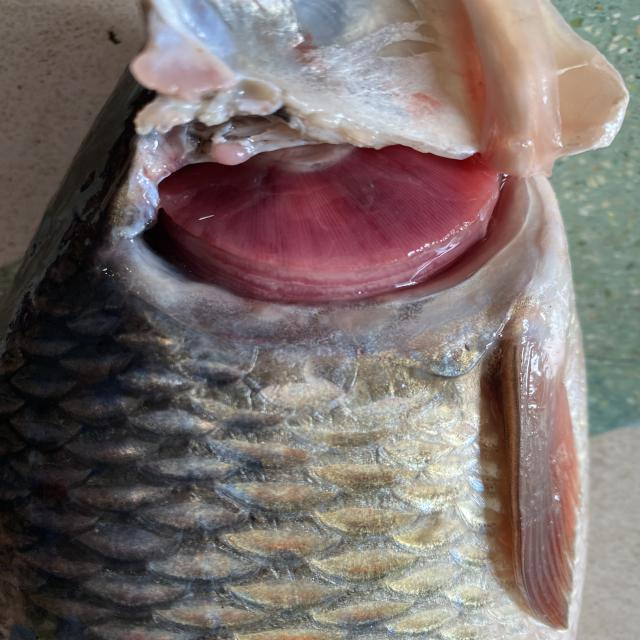Fresh: (156, 132, 536, 302)
